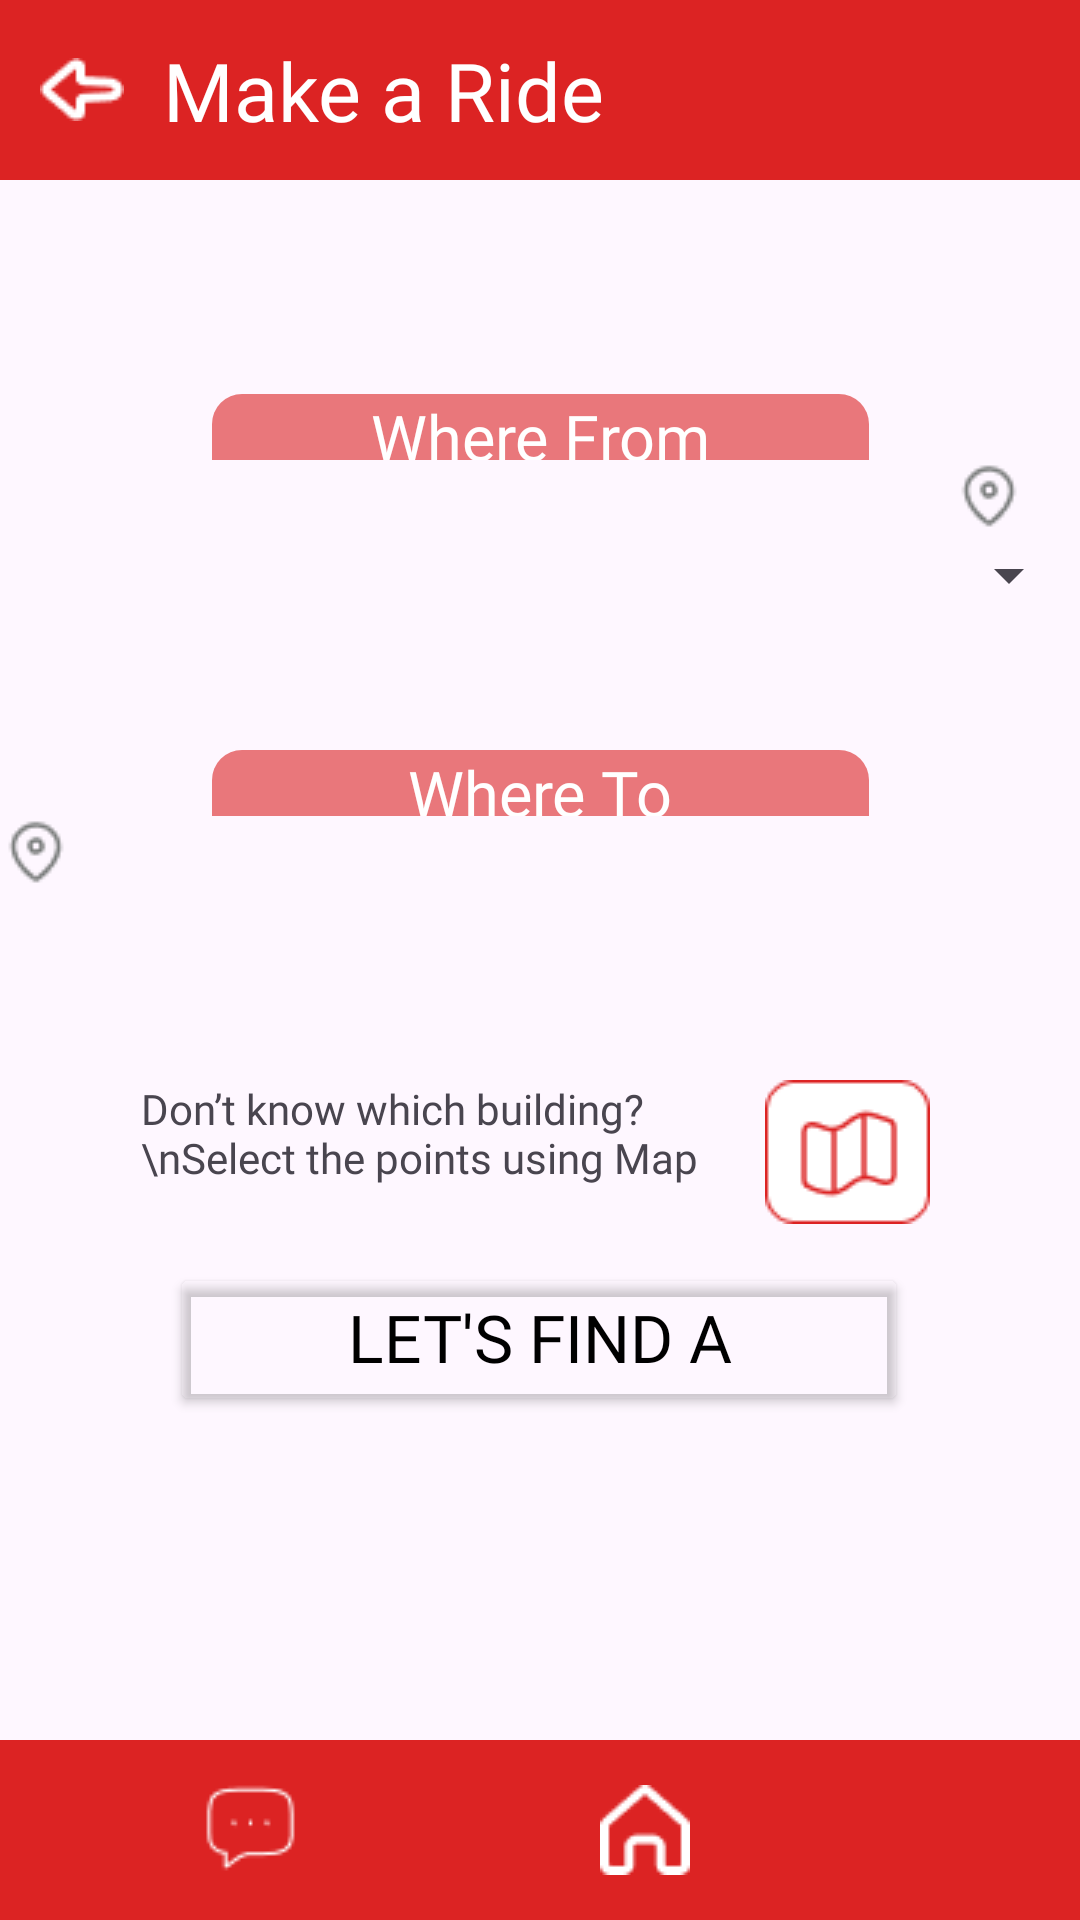

Icons on this 1080 × 1920 Android screen, each with the point to tap as [x,y]:
chat: [250,1828]
location symbol: [989,496], [36,852]
map symbol: [847,1152]
